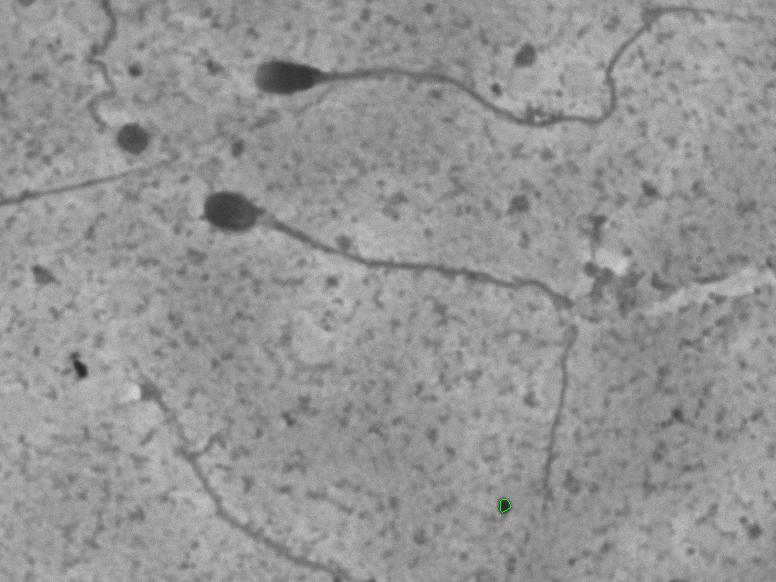Normal: (193, 170, 601, 520), (236, 4, 736, 125)
